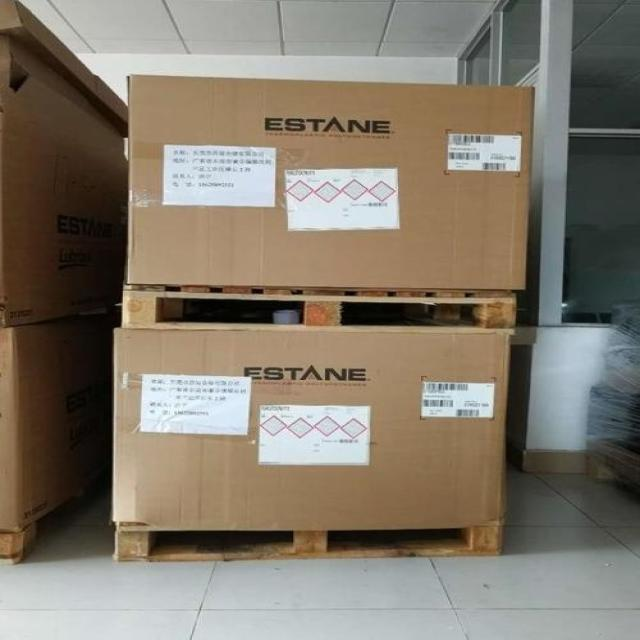box: (127, 75, 537, 288), (113, 328, 510, 531), (0, 38, 127, 320), (0, 316, 107, 532)
